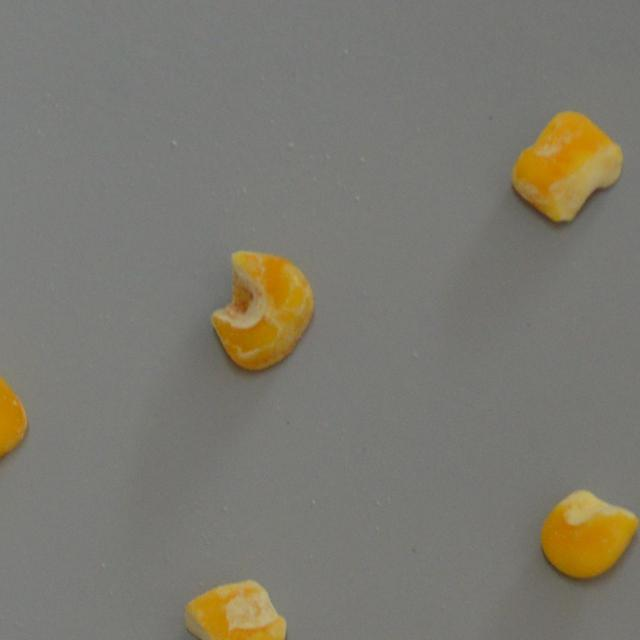dañado: (207, 244, 320, 378), (536, 484, 640, 584), (178, 577, 291, 640), (0, 338, 33, 480)
pelicula: (504, 107, 628, 230)
